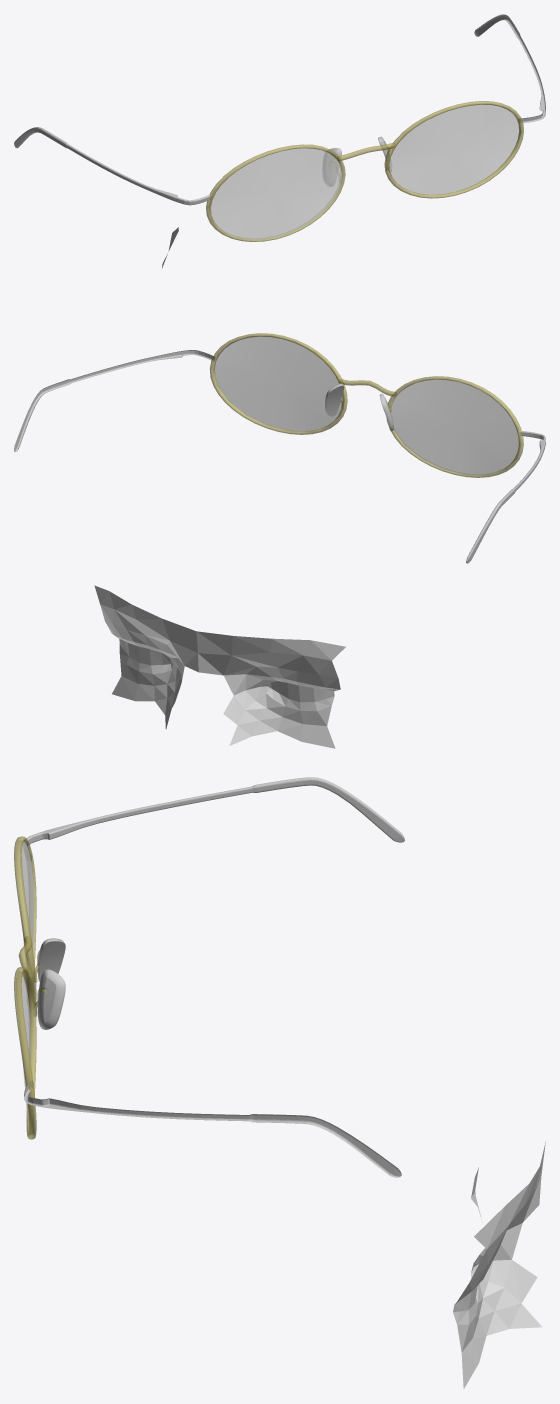
Rendered from glass2.gltf.
3 views of the same model, one above another, from view 1: azimuth 30°, elevation 25°; view 2: azimuth 150°, elevation 25°; view 3: azimuth 270°, elevation 25° (orthographic). The views are drawn at different scales.
Parts seen in each view (by area): view 1: Specs_Rlens, Specs_Llens, Specs_R_rim, Specs_L_rim, Specs_R_leg, Specs_L_leg, Specs_nosepiece01; view 2: facemesh.000, Specs_Rlens, Specs_Llens, Specs_R_rim, Specs_L_rim, Specs_L_leg, Specs_R_leg, Specs_nosepiece01; view 3: facemesh.000, Specs_L_leg, Specs_R_leg, Specs_R_rim, Specs_nosepiece01, Specs_L_rim, Specs_Llens, Specs_Rlens.
Boxes of the visible parts, x1,y1,x2,y2 form: Specs_Rlens: (209,147,341,239); Specs_Llens: (388,103,521,195); Specs_R_rim: (384,101,523,198); Specs_L_rim: (206,144,345,241); Specs_R_leg: (14,127,210,205); Specs_L_leg: (474,14,545,123); Specs_nosepiece01: (323,136,391,186); facemesh.000: (94,585,345,748); Specs_Rlens: (391,379,521,474); Specs_Llens: (213,336,344,431); Specs_R_rim: (209,333,347,434); Specs_L_rim: (386,376,523,477); Specs_L_leg: (14,350,214,452); Specs_R_leg: (466,431,545,563); Specs_nosepiece01: (325,383,393,430); facemesh.000: (453,1141,545,1389); Specs_L_leg: (24,1081,401,1177); Specs_R_leg: (24,777,404,860); Specs_R_rim: (14,966,36,1139); Specs_nosepiece01: (37,938,65,1029); Specs_L_rim: (14,836,36,1005); Specs_Llens: (16,971,33,1135); Specs_Rlens: (16,840,33,989).
Bounding box in the file's own units: 7.2 × 3.82 × 4.74.
